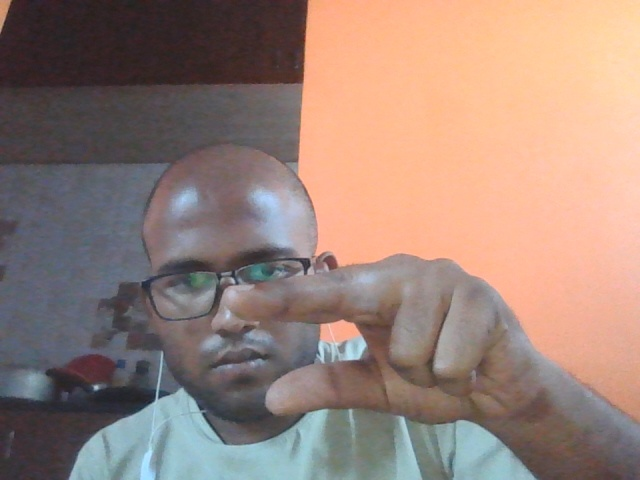no: (202, 239, 606, 449)
